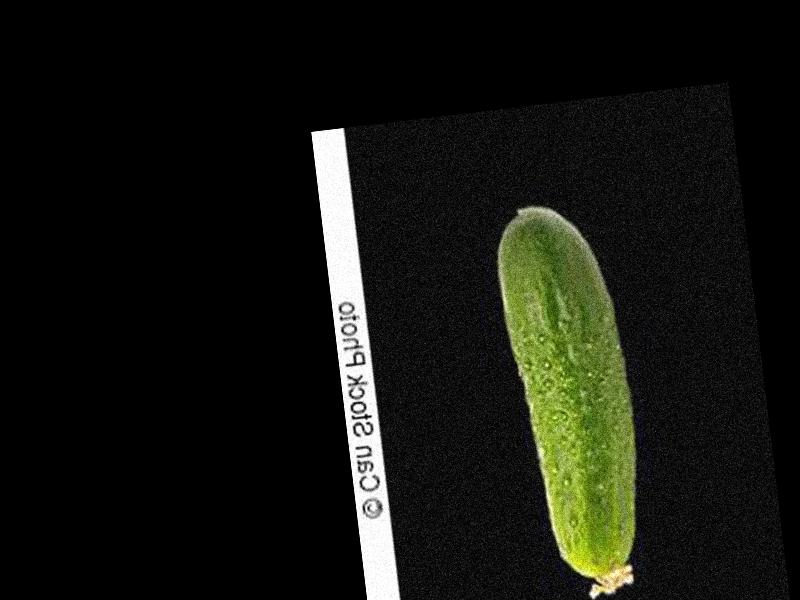Cucumber: (492, 197, 654, 600)
